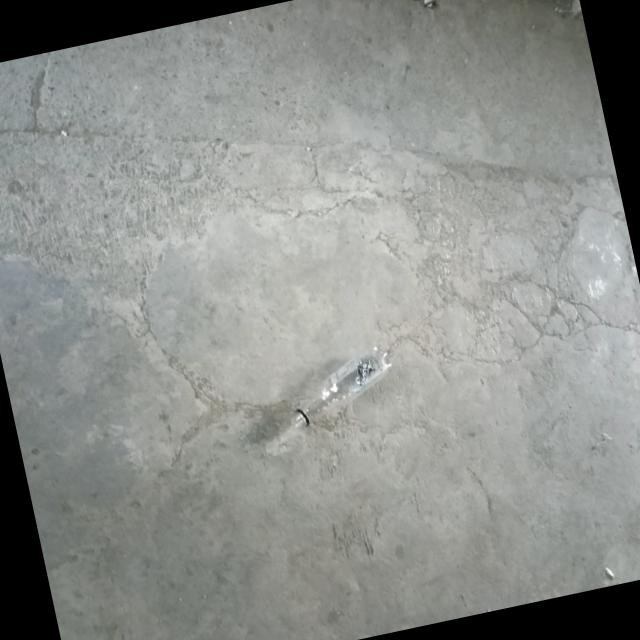Bottle: (283, 346, 391, 430)
